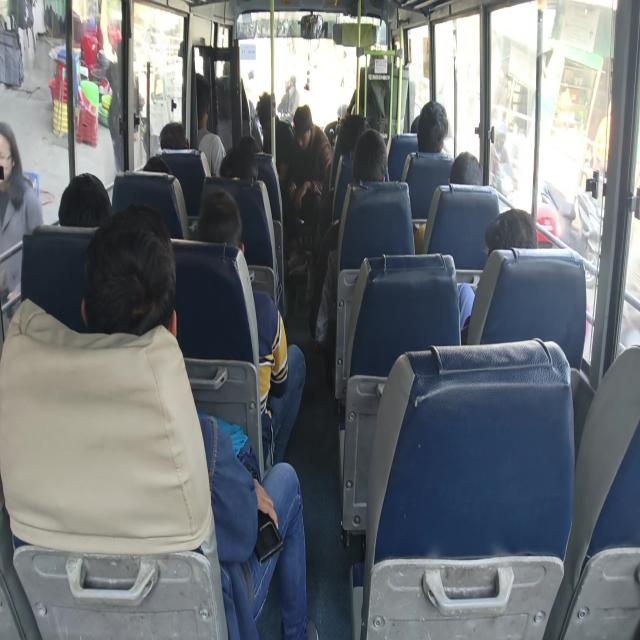person: (101, 236, 188, 337), (192, 190, 245, 253), (449, 153, 503, 204), (490, 210, 538, 262), (64, 178, 103, 232), (357, 140, 392, 192), (226, 150, 266, 192), (421, 102, 447, 153), (338, 118, 366, 160), (160, 122, 193, 154), (144, 156, 178, 187), (190, 80, 212, 120), (294, 105, 314, 146), (260, 96, 280, 136), (367, 42, 387, 79), (220, 46, 238, 78), (239, 135, 262, 155)
